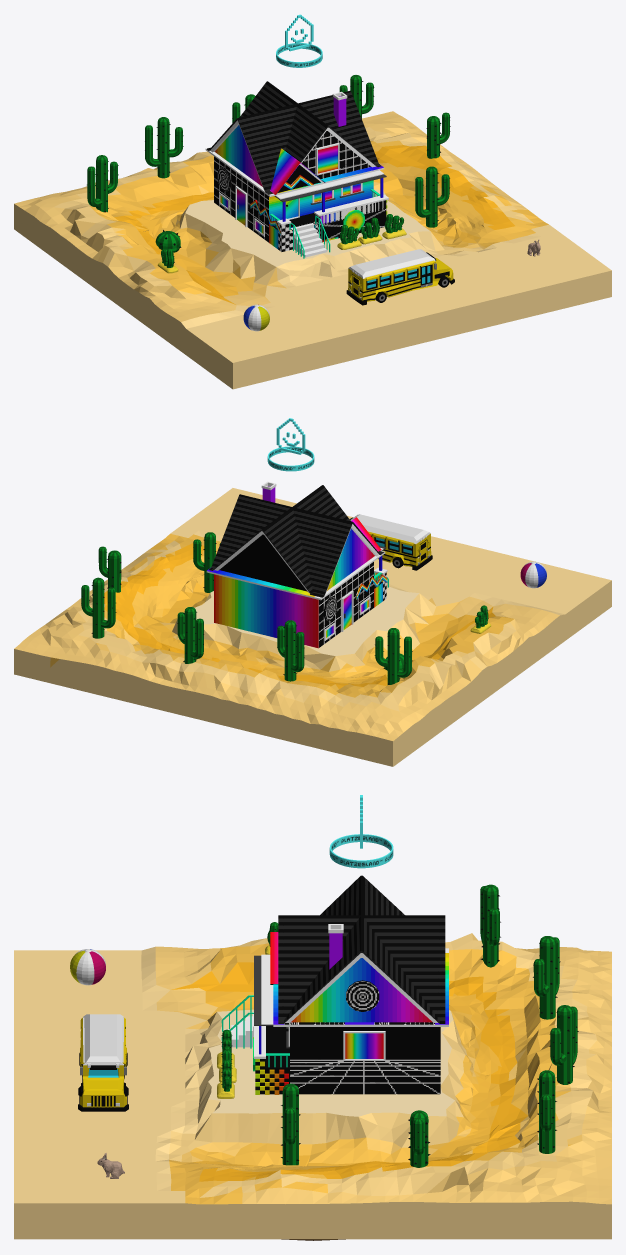
3 renders of one model, top to bottom at view 1: azimuth 30°, elevation 25°; view 2: azimuth 150°, elevation 25°; view 3: azimuth 270°, elevation 25°, orthographic. The views are drawn at different scales.
Visible parts, largest first — view 1: Cube.001, Cube.1320, VEHICLES_SCHOOL_BUS, Cylinder.044, Cylinder.037, Cylinder.045, TYPE_PREMIUM, Cylinder.038, Cylinder.042, OBJRANDOM_BEACHBALL; view 2: Cube.001, Cube.1320, VEHICLES_SCHOOL_BUS, Cylinder.042, Cylinder.045, Cylinder.044, Cylinder.043, TYPE_PREMIUM, Cylinder.037, Cylinder.038, OBJRANDOM_BEACHBALL; view 3: Cube.001, Cube.1320, VEHICLES_SCHOOL_BUS, Cylinder.044, Cylinder.043, Cylinder.045, Cylinder.042, Cylinder.037, TYPE_PREMIUM, Cylinder.038, OBJRANDOM_BEACHBALL.
Part boxes in pixels (box(x1,y1,x2,y2)): Cube.001: box(14, 111, 611, 389); Cube.1320: box(205, 81, 388, 258); VEHICLES_SCHOOL_BUS: box(346, 249, 454, 305); Cylinder.044: box(145, 117, 183, 178); Cylinder.037: box(415, 166, 449, 227); Cylinder.045: box(87, 155, 118, 212); TYPE_PREMIUM: box(276, 14, 322, 67); Cylinder.038: box(426, 112, 450, 158); Cylinder.042: box(339, 75, 374, 118); OBJRANDOM_BEACHBALL: box(243, 304, 269, 331); Cube.001: box(14, 488, 611, 766); Cube.1320: box(206, 481, 388, 648); VEHICLES_SCHOOL_BUS: box(350, 514, 432, 570); Cylinder.042: box(81, 577, 116, 638); Cylinder.045: box(374, 628, 412, 684); Cylinder.044: box(277, 620, 304, 681); Cylinder.043: box(177, 607, 203, 663); TYPE_PREMIUM: box(267, 418, 314, 471); Cylinder.037: box(193, 532, 220, 592); Cylinder.038: box(98, 546, 121, 592); OBJRANDOM_BEACHBALL: box(520, 561, 546, 588); Cube.001: box(14, 933, 611, 1239); Cube.1320: box(221, 875, 448, 1094); VEHICLES_SCHOOL_BUS: box(78, 1014, 128, 1111); Cylinder.044: box(533, 936, 560, 1019); Cylinder.043: box(549, 1005, 578, 1084); Cylinder.045: box(480, 884, 500, 967); Cylinder.042: box(537, 1070, 556, 1153); Cylinder.037: box(281, 1083, 300, 1165); TYPE_PREMIUM: box(329, 795, 393, 868); Cylinder.038: box(408, 1110, 430, 1167); OBJRANDOM_BEACHBALL: box(70, 949, 105, 985).
Size of the model in its own units: 4002 by 2504 by 4001.
Materials: 38 (5 with a texture image).
